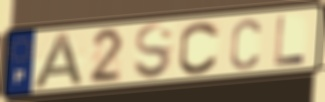2: (87, 27, 125, 86)
A: (31, 31, 86, 91)
C: (177, 19, 222, 76), (228, 17, 263, 72)
L: (273, 14, 308, 68)
S: (132, 21, 176, 81)
